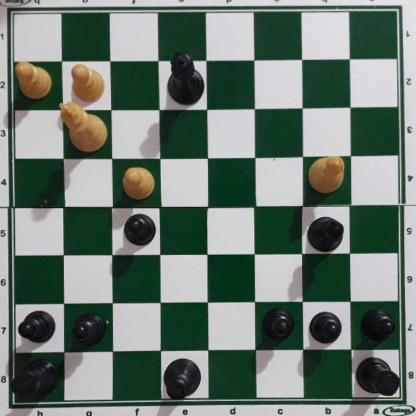black-bishop: (305, 217, 348, 253)
black-king: (162, 358, 204, 402)
black-pawn: (20, 311, 56, 347), (263, 308, 295, 345), (74, 314, 107, 348), (363, 312, 396, 345), (124, 215, 156, 249), (312, 312, 343, 346)
black-queen: (167, 51, 204, 106)
black-rook: (355, 358, 403, 401), (11, 361, 58, 402)
white-bishop: (308, 157, 346, 193)
white-king: (57, 101, 109, 153)
white-pawn: (69, 63, 107, 103), (16, 63, 53, 101), (122, 168, 157, 203)
